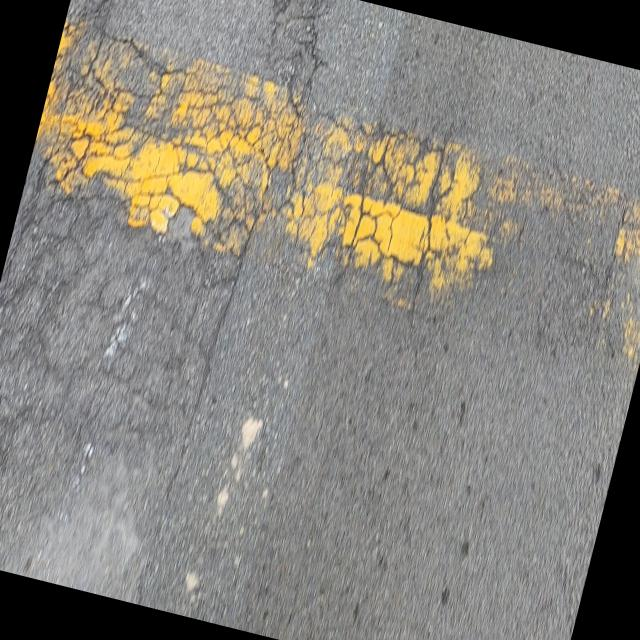Retak-Buaya: (0, 0, 478, 575)
Retak-Memanjang: (135, 208, 262, 603)
